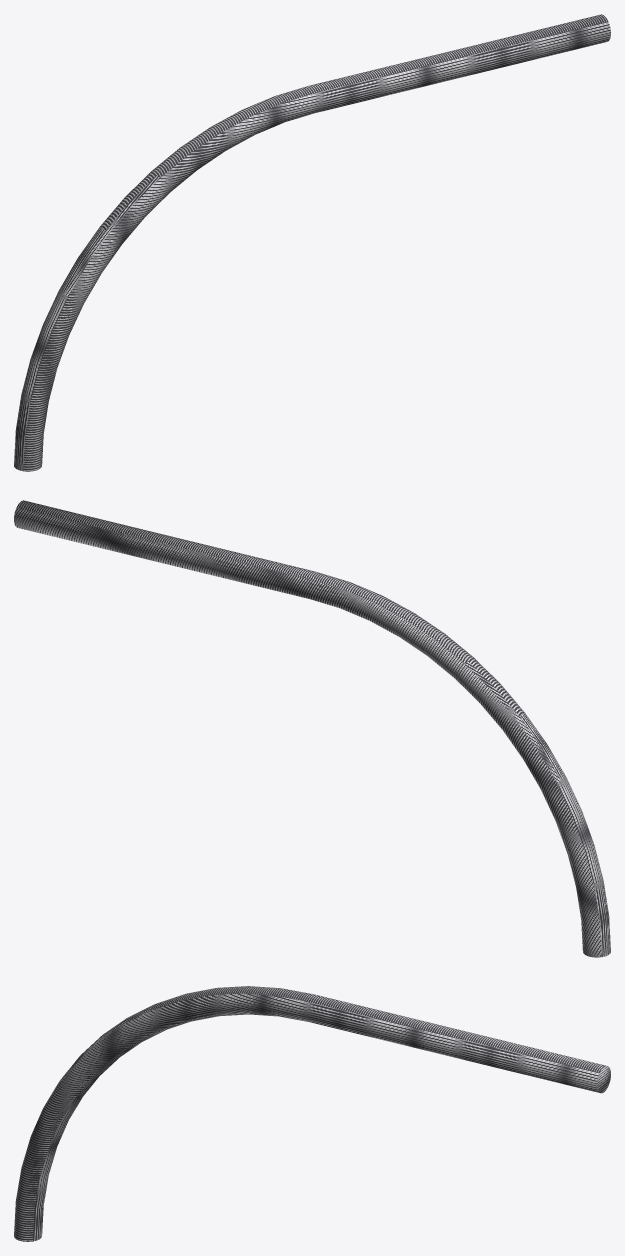
The model's file is pipe.FBX.
3 renders of one model, top to bottom at view 1: azimuth 30°, elevation 25°; view 2: azimuth 150°, elevation 25°; view 3: azimuth 330°, elevation 25°, orthographic.
Parts seen in each view (by area): view 1: pipe 1, pipe 2; view 2: pipe 1, pipe 2; view 3: pipe 1, pipe 2.
Part boxes in pixels (<box>): pipe 1: <box>14,85,318,471</box>; pipe 2: <box>310,14,610,112</box>; pipe 1: <box>306,571,610,957</box>; pipe 2: <box>14,500,314,598</box>; pipe 1: <box>14,986,313,1241</box>; pipe 2: <box>304,994,610,1093</box>.
Bounding box in the file's own units: 310 × 156 × 12.8.
